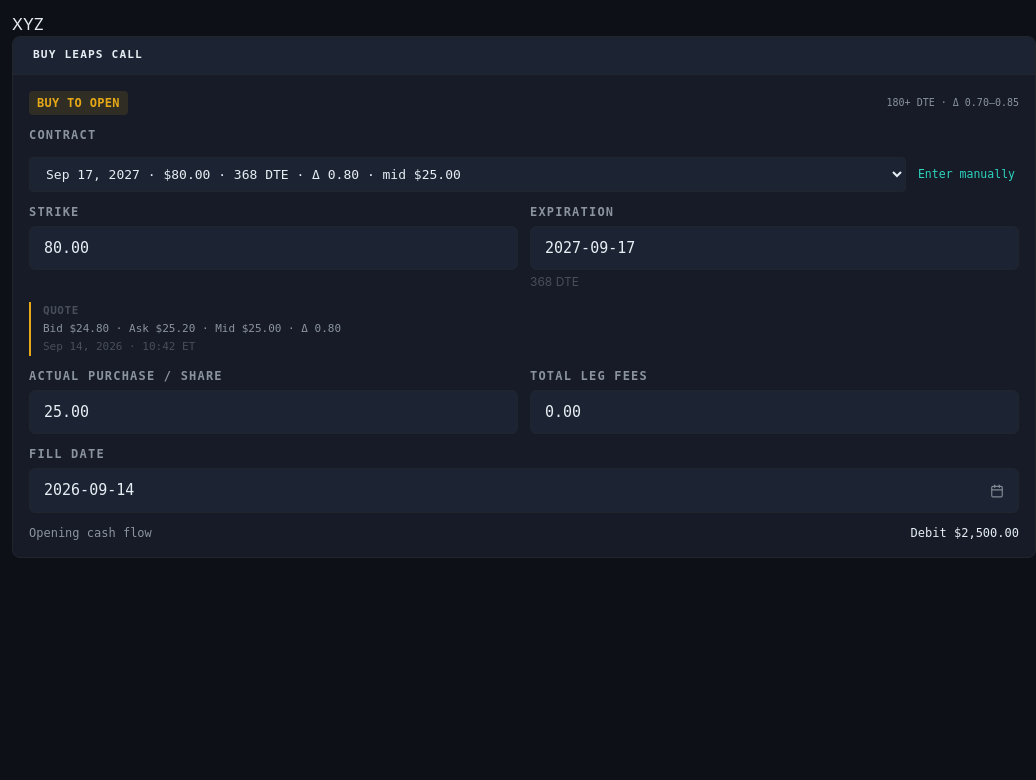
it: PmccLegSection › forgets the held quote once the leg switches to manual entry
Click the button "Enter manually".
click(966, 174)  # box [914,166,1019,183]
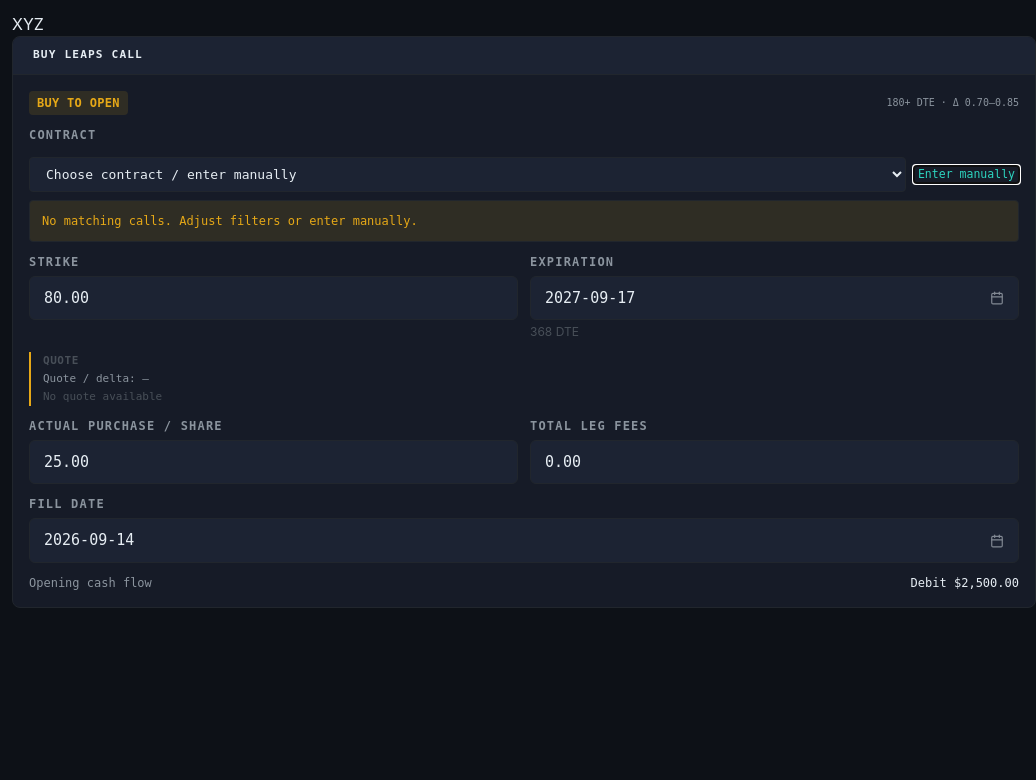
Expected: the dropdown labelled "Contract" shows "Choose contract / enter manually", [29,157,906,192]
Expected: the text "No quote available" is shown, [43,390,162,403]
